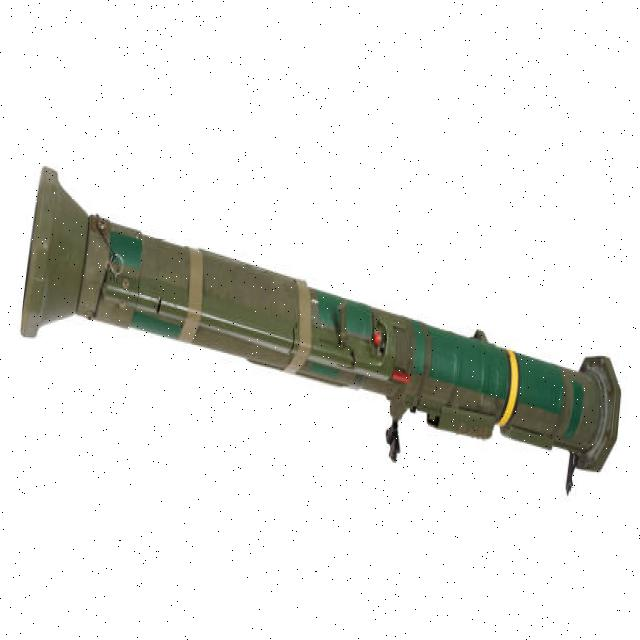bazooka: (15, 163, 624, 508)
